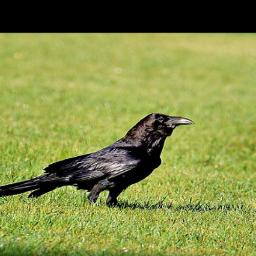Crow: (0, 111, 198, 210)
